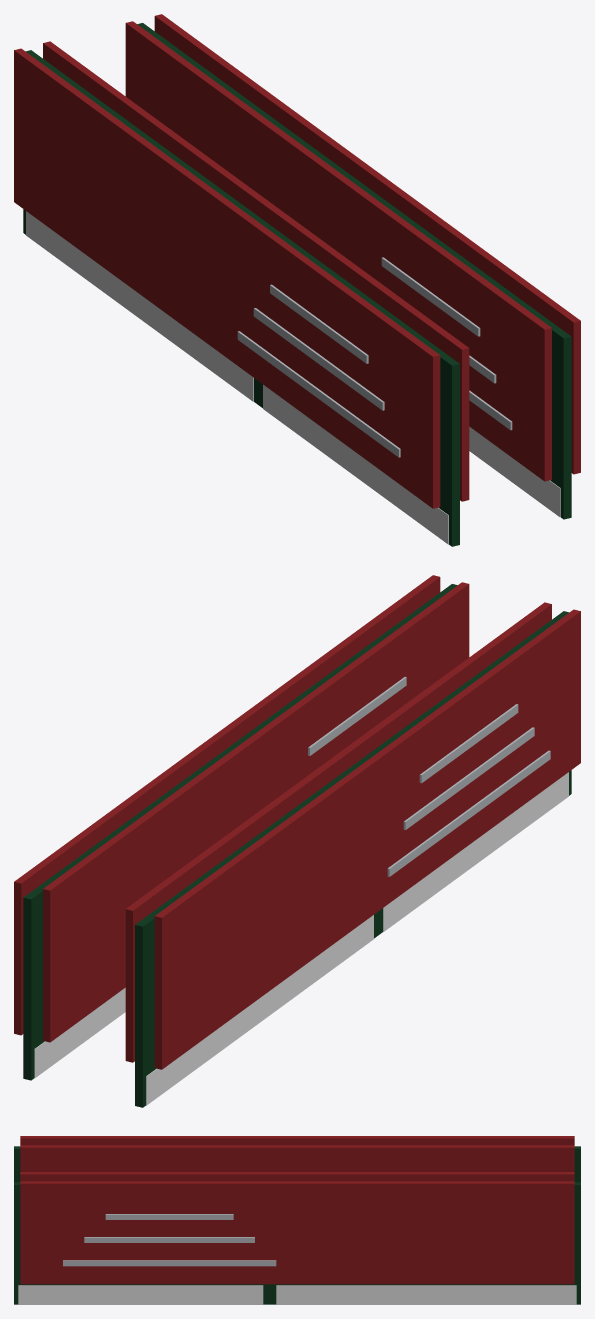
Rendered from hw_ram_ddr4_32gb.glb.
3 views of the same model, one above another, from view 1: azimuth 30°, elevation 25°; view 2: azimuth 150°, elevation 25°; view 3: azimuth 270°, elevation 25° (orthographic). The views are drawn at different scales.
Visible parts, largest first — view 1: Stick_1, Body; view 2: Stick_1, Body; view 3: Body, Stick_1.
Boxes of the visible parts, box(x1,y1,x2,y2) form: Stick_1: box(14, 41, 469, 546); Body: box(125, 14, 580, 519); Stick_1: box(125, 602, 580, 1107); Body: box(14, 575, 469, 1080); Body: box(14, 1172, 580, 1304); Stick_1: box(14, 1136, 580, 1182).
Bounding box in the file's own units: 0.0272 × 0.0325 × 0.133.
